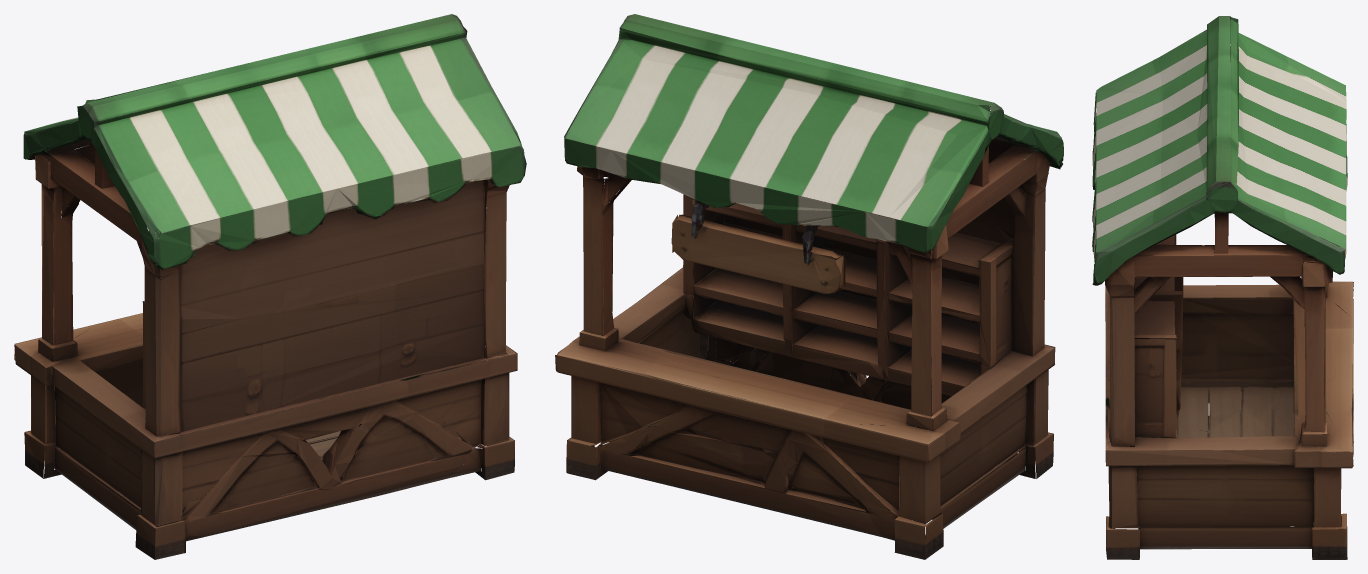
Rendered from SellStand.fbx.
The picture shows the model from 3 angles, left to right: view 1: azimuth 30°, elevation 25°; view 2: azimuth 150°, elevation 25°; view 3: azimuth 270°, elevation 25°; orthographic projection. The views are drawn at different scales.
Parts seen in each view (by area): view 1: SellStand; view 2: SellStand; view 3: SellStand.
Boxes of the visible parts, bbox=[...] form: SellStand: bbox=[14, 14, 526, 559]; SellStand: bbox=[555, 14, 1063, 559]; SellStand: bbox=[1092, 16, 1353, 559].
Bounding box in the file's own units: 3.34 × 3.5 × 2.17.
Materials: 1 (1 with a texture image).
